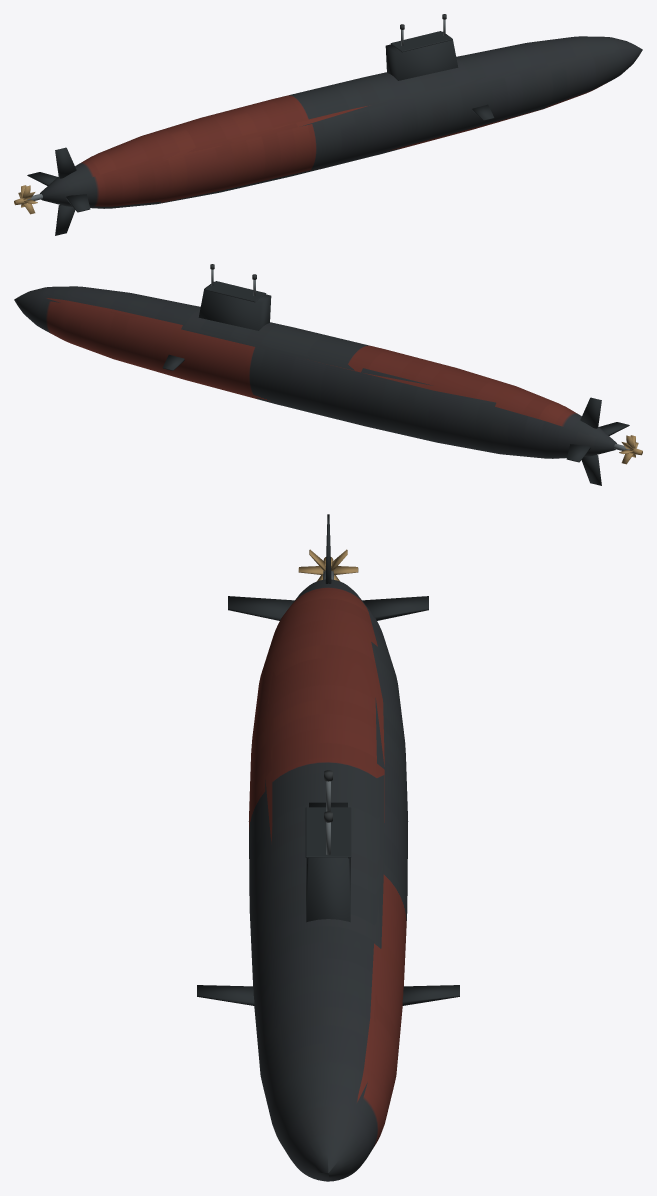
The model's file is UK_SSN_Trafalgar_LOD2.fbx.
3 renders of one model, top to bottom at view 1: azimuth 30°, elevation 25°; view 2: azimuth 150°, elevation 25°; view 3: azimuth 270°, elevation 25°, orthographic. The views are drawn at different scales.
Visible parts, largest first — view 1: UK_SSN_Trafalgar_LOD2; view 2: UK_SSN_Trafalgar_LOD2; view 3: UK_SSN_Trafalgar_LOD2.
Part boxes in pixels (x1,y1,x2,y2): UK_SSN_Trafalgar_LOD2: (14, 14, 642, 235); UK_SSN_Trafalgar_LOD2: (14, 264, 642, 485); UK_SSN_Trafalgar_LOD2: (197, 514, 459, 1181).
Bounding box in the file's own units: 89.15 × 16.15 × 17.07.
6 materials, 1 textured.
